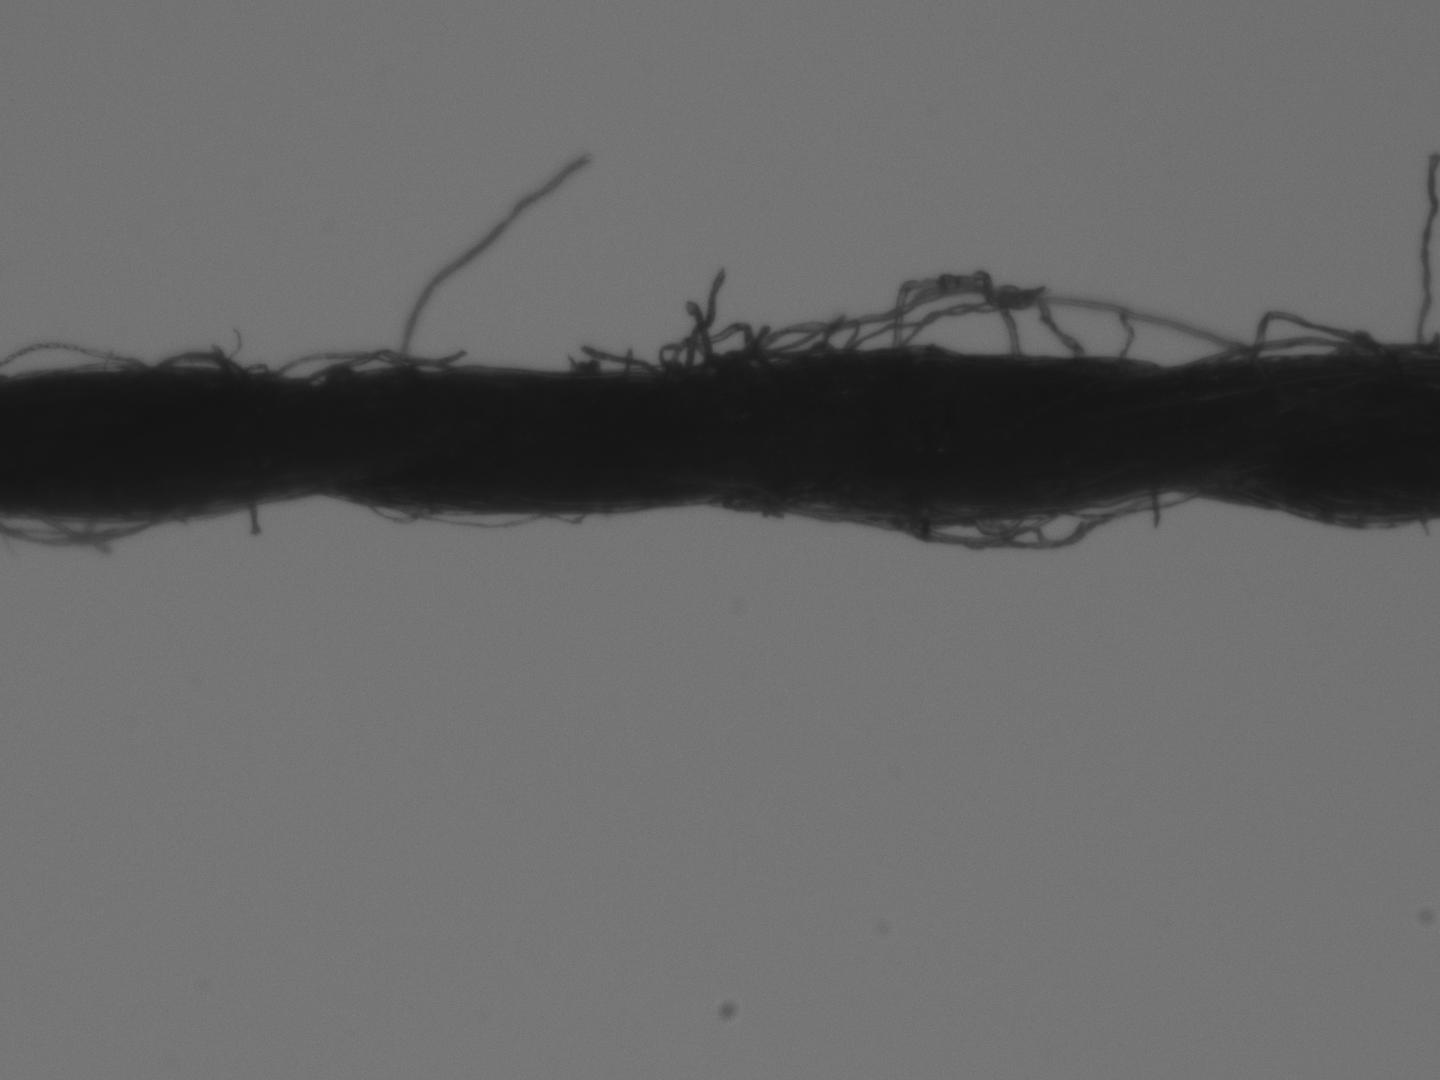loop_fiber: (848, 296, 1248, 366), (884, 488, 1162, 554), (900, 285, 1083, 358), (891, 272, 1022, 360), (1239, 311, 1379, 364), (5, 511, 179, 546), (660, 320, 757, 382), (310, 347, 454, 382), (1187, 338, 1363, 365), (0, 343, 141, 372), (1056, 487, 1191, 517), (34, 512, 156, 540), (772, 324, 862, 356), (149, 348, 242, 373), (277, 354, 362, 377), (365, 499, 426, 525), (967, 516, 1023, 538), (238, 362, 269, 379)
protruding_fiber: (399, 159, 588, 358), (683, 269, 726, 366), (1417, 152, 1431, 346), (584, 345, 646, 373), (243, 500, 257, 532)
